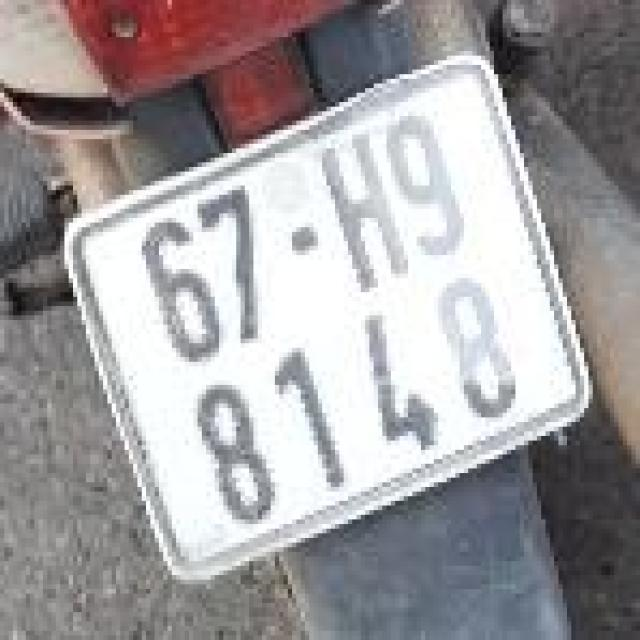1: (258, 332, 365, 503)
4: (336, 291, 455, 467)
6: (126, 207, 232, 380)
7: (191, 178, 291, 357)
8: (414, 255, 535, 432), (182, 371, 288, 539)
9: (370, 93, 488, 271)
H: (306, 123, 423, 303)
